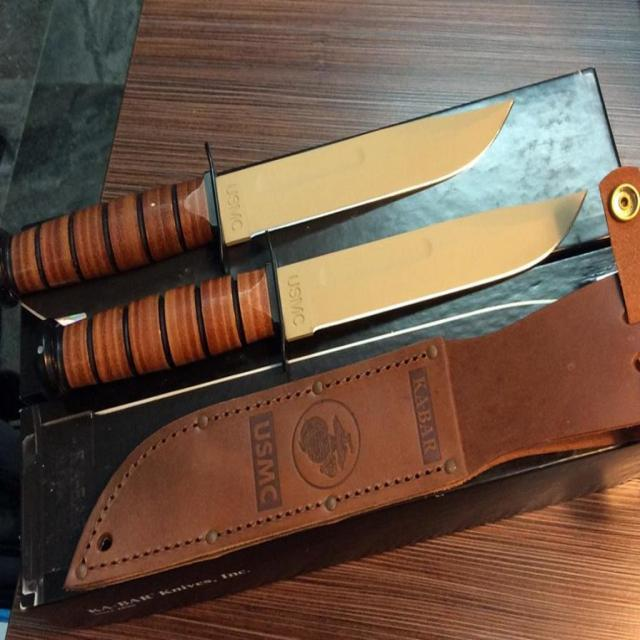Knife: (42, 192, 585, 390), (0, 101, 512, 296)
